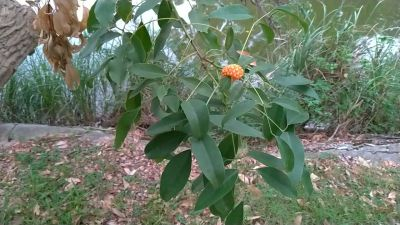eggs: (221, 62, 246, 82)
